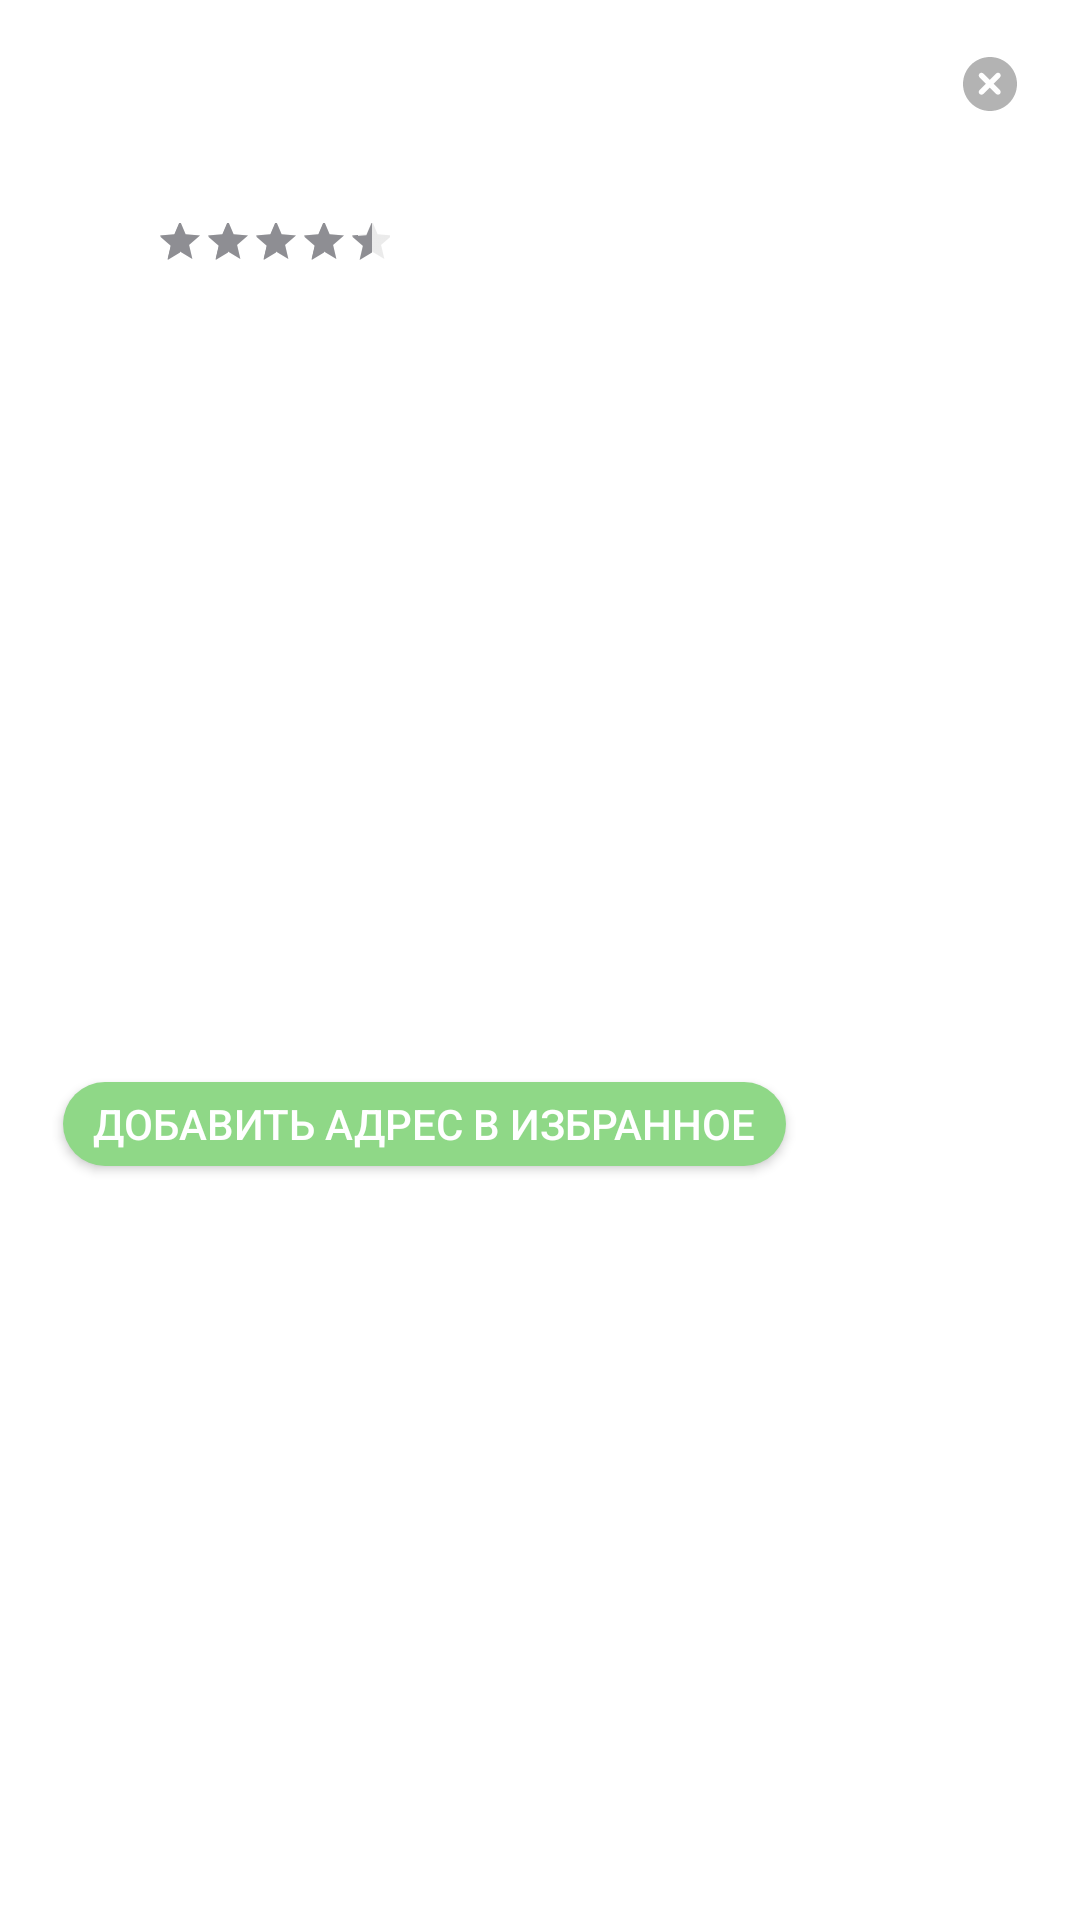

Screen size 1080 x 1920. Icon name, then its box in pixels as bbox=(x1, y1, x2, y2):
close: bbox=(963, 57, 1017, 111)
